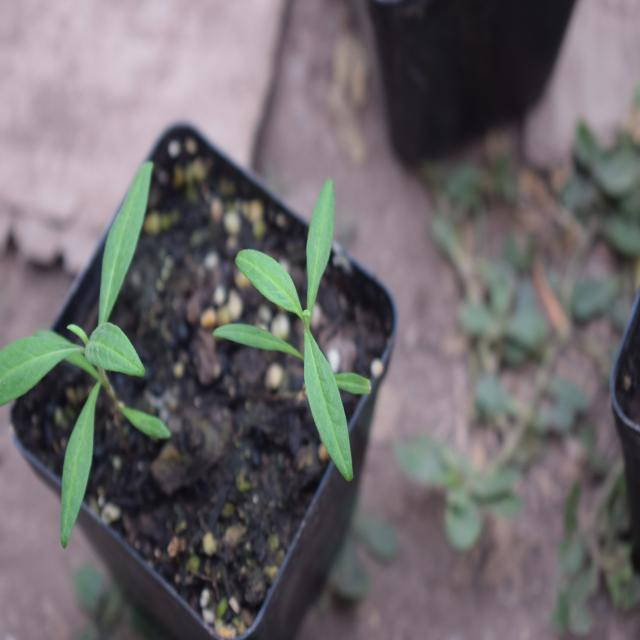white_smart_weed: (10, 147, 173, 558), (236, 172, 402, 489)
